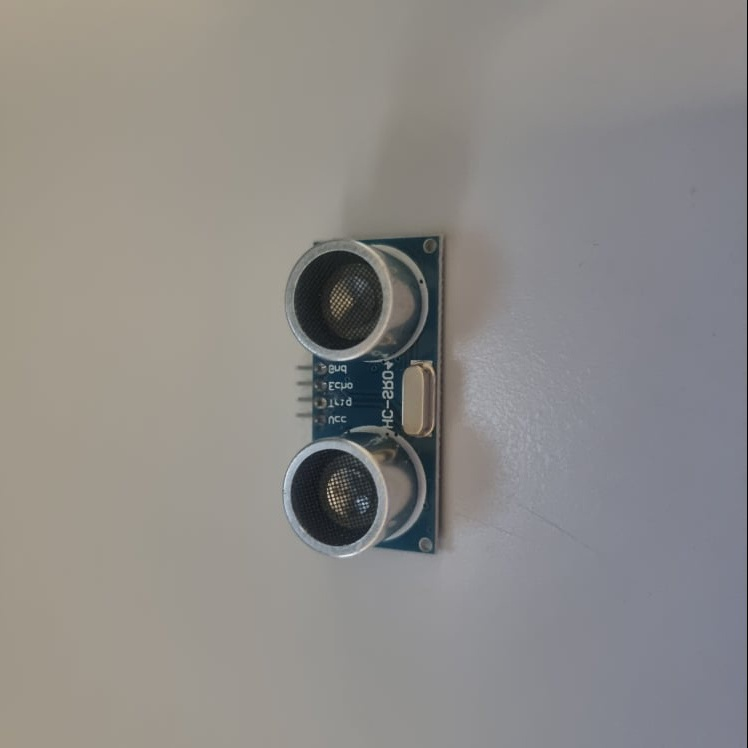SENSOR: (281, 234, 445, 558)
